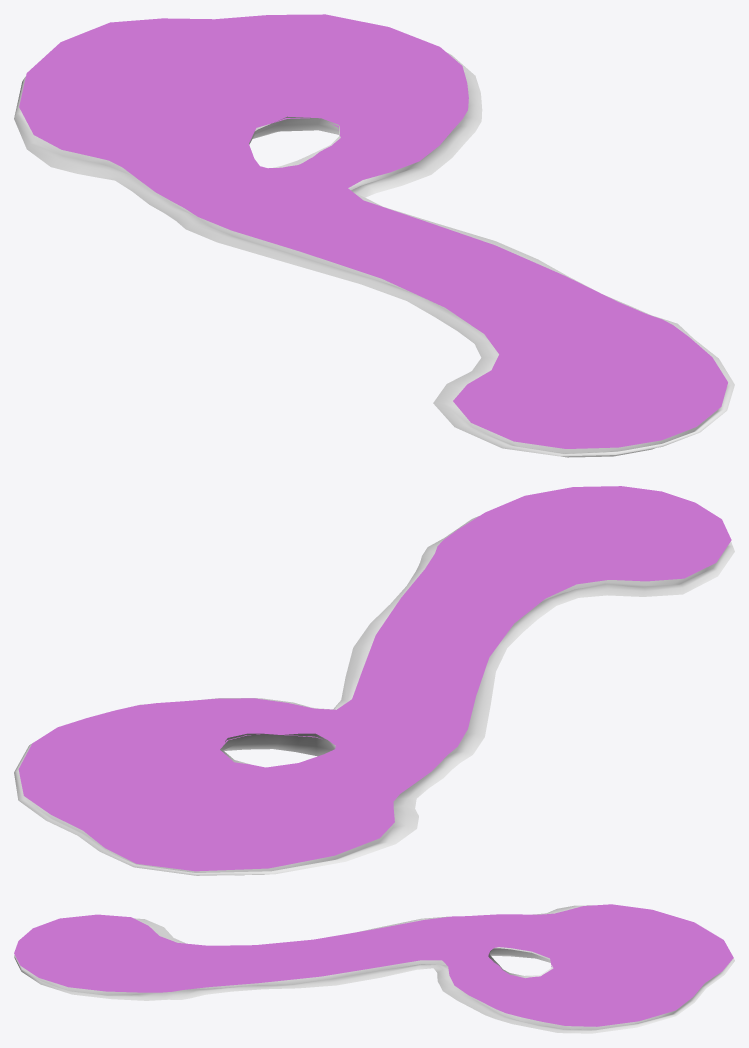
The model's file is riverModel.fbx.
3 renders of one model, top to bottom at view 1: azimuth 30°, elevation 25°; view 2: azimuth 150°, elevation 25°; view 3: azimuth 270°, elevation 25°, orthographic. The views are drawn at different scales.
Parts seen in each view (by area): view 1: Top, bottom; view 2: Top, bottom; view 3: Top, bottom.
Boxes of the visible parts, left/top/right/bottom form: Top: left=19, top=14, right=727, bottom=448; bottom: left=14, top=52, right=734, bottom=457; Top: left=18, top=486, right=731, bottom=871; bottom: left=14, top=516, right=734, bottom=875; Top: left=14, top=904, right=733, bottom=1026; bottom: left=14, top=905, right=734, bottom=1033.
Bounding box in the file's own units: 1395 × 114 × 3301.
